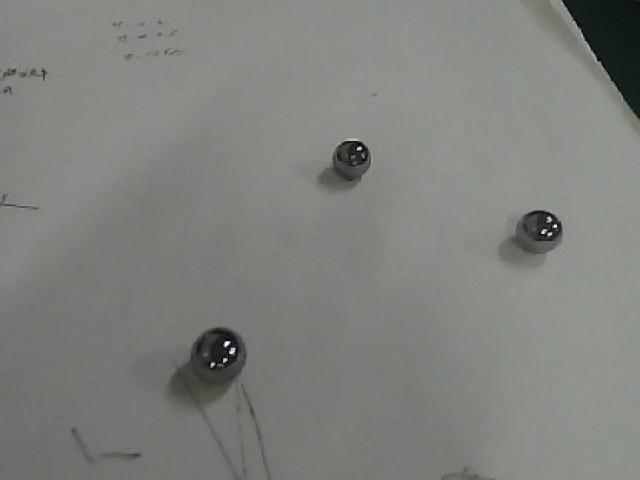steel-ball: (472, 172, 576, 294), (151, 297, 263, 405), (305, 128, 386, 204)
